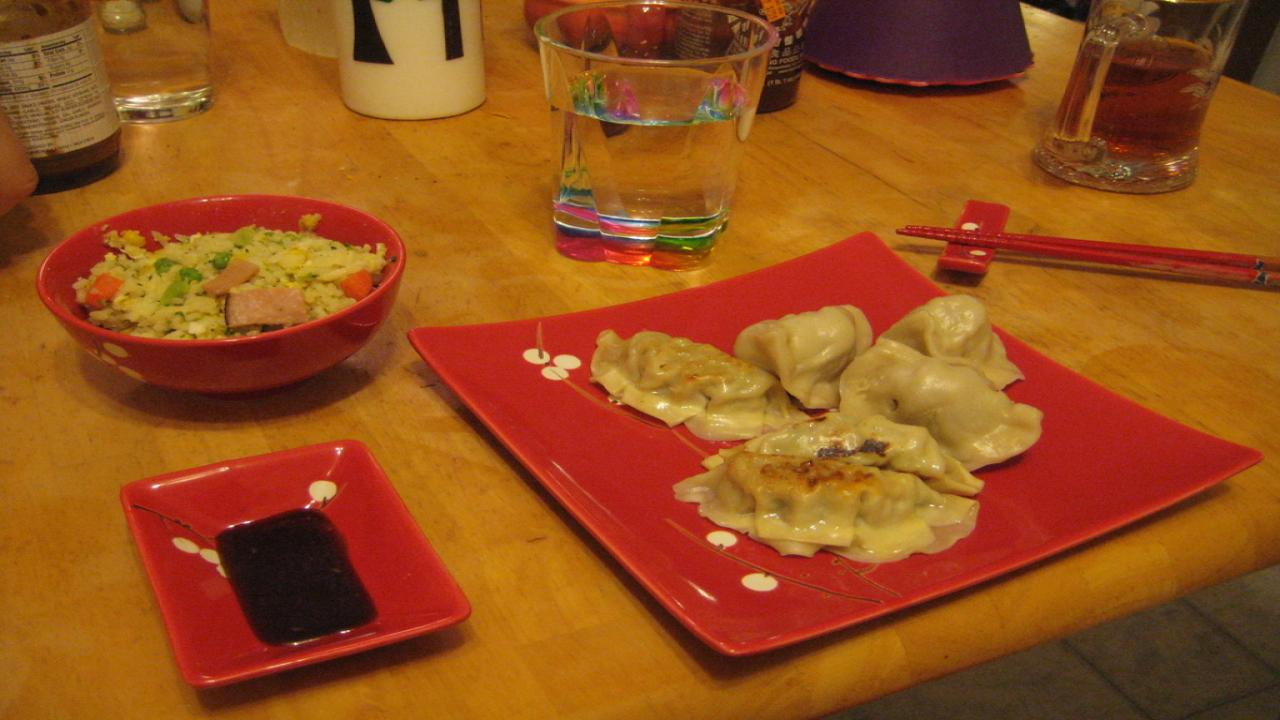chopstick: (904, 225, 1279, 283)
